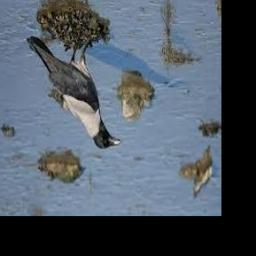Crow: (27, 35, 123, 150)
